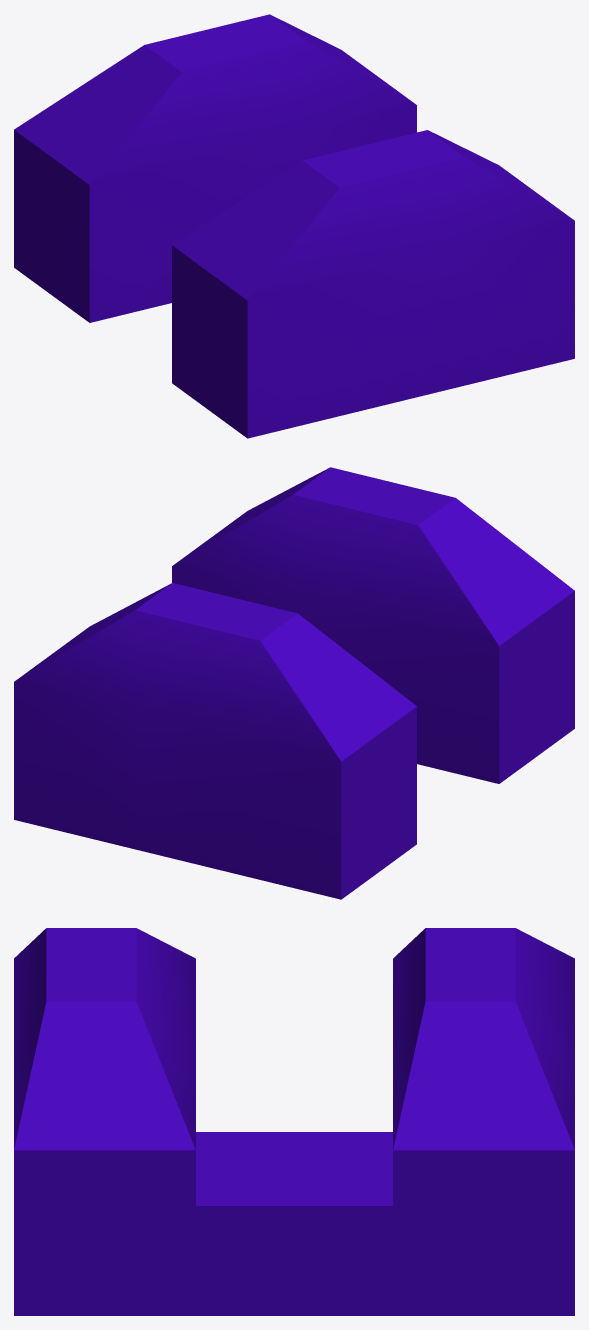
File: SafeZone1.fbx
The picture shows the model from 3 angles, top to bottom: view 1: azimuth 30°, elevation 25°; view 2: azimuth 150°, elevation 25°; view 3: azimuth 270°, elevation 25°; orthographic projection. The views are drawn at different scales.
Parts seen in each view (by area): view 1: SafeZone1; view 2: SafeZone1; view 3: SafeZone1.
Boxes of the visible parts, x1,y1,x2,y2 form: SafeZone1: (14,14,574,438); SafeZone1: (14,467,574,899); SafeZone1: (14,928,574,1315).
Bounding box in the file's own units: 2.5 × 1.57 × 3.08.
